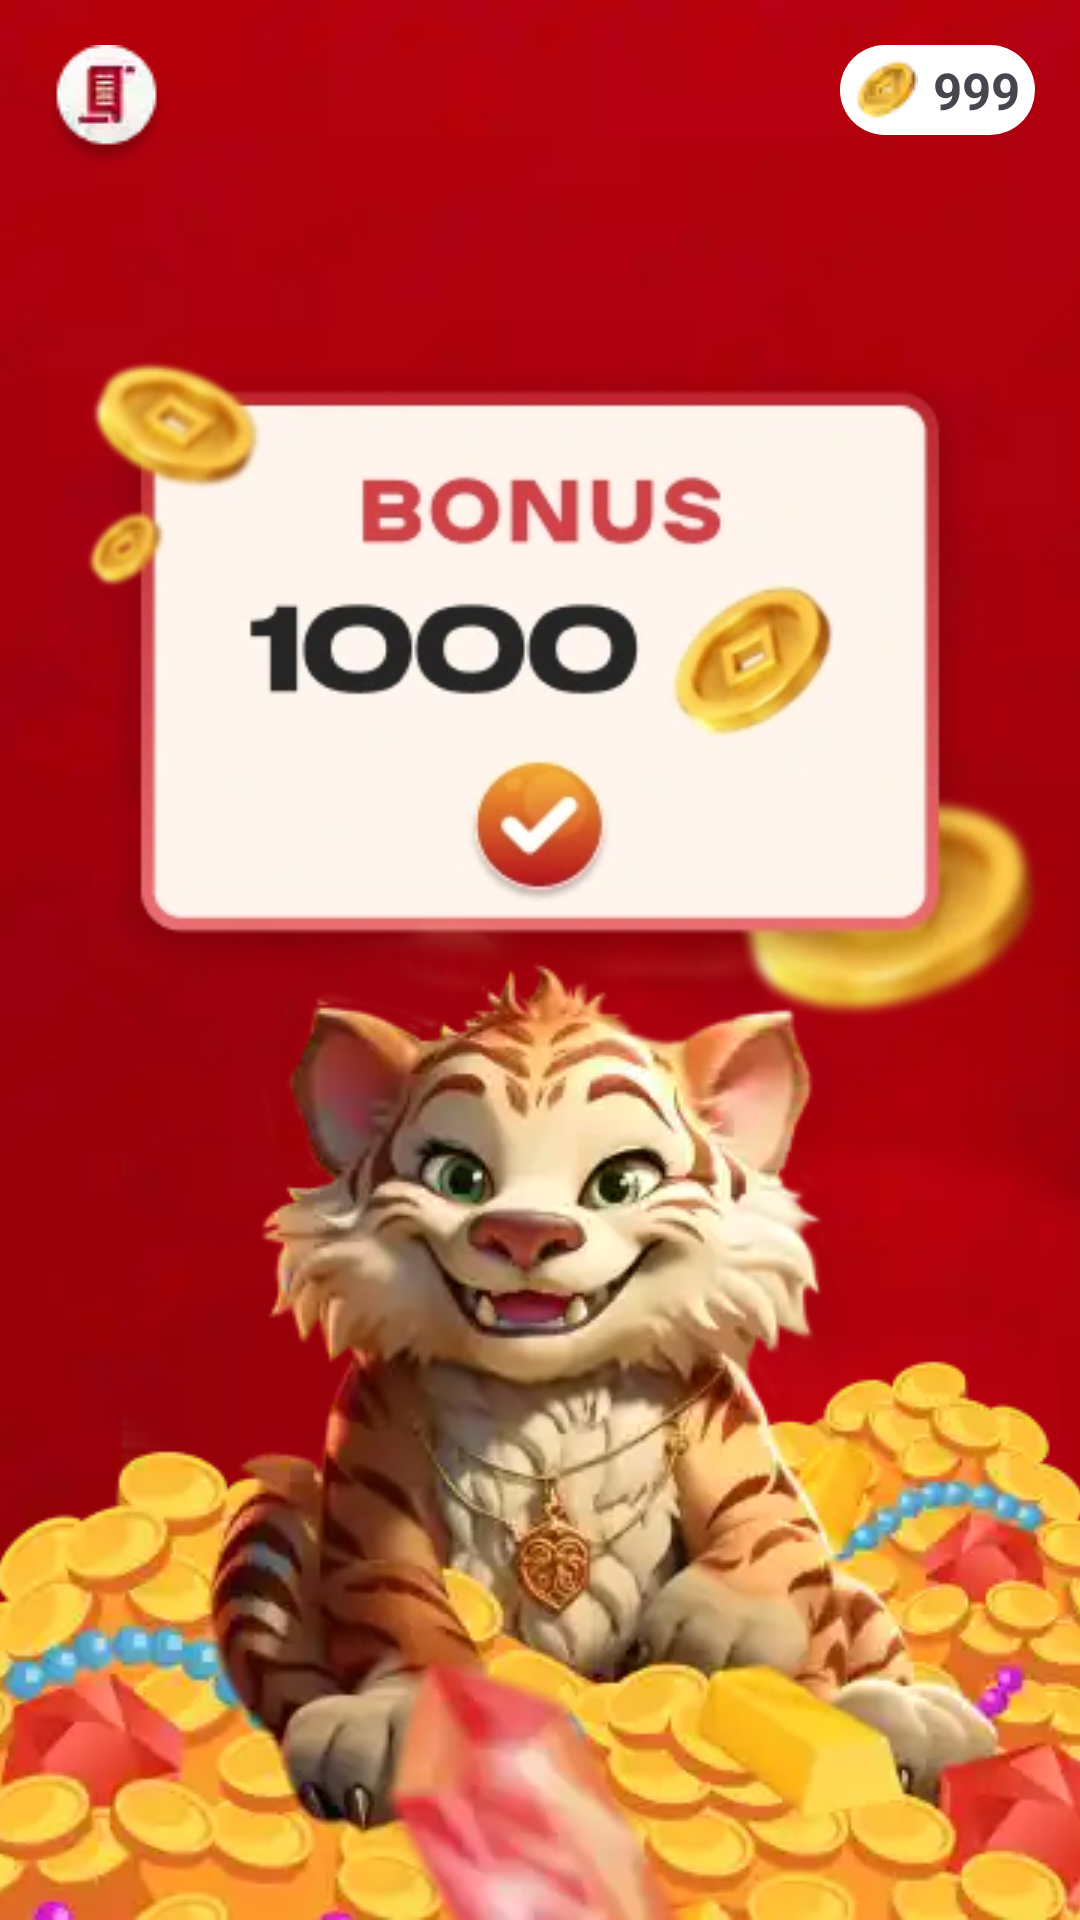

Named icons in this screenshot (1080w x 1920h) and their bounding boxes, (x1, y1, x2, y2):
coin balance: (840, 45, 918, 135)
privacy: (56, 45, 157, 155)
